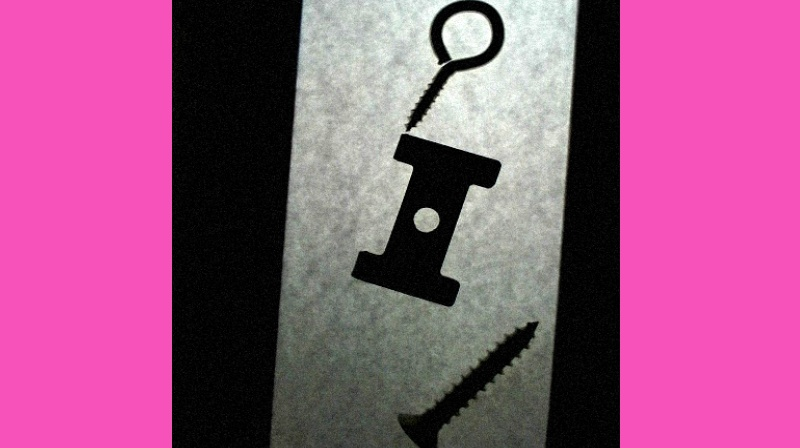O001: (403, 0, 507, 131)
O002: (351, 134, 502, 304)
S001: (396, 317, 540, 447)
